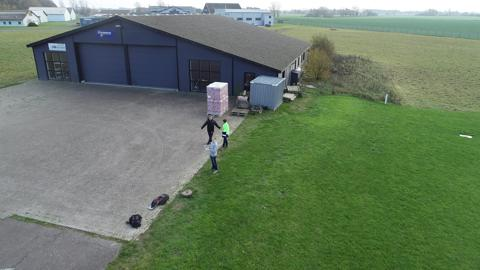RockwoolPallet: (206, 81, 230, 117)
